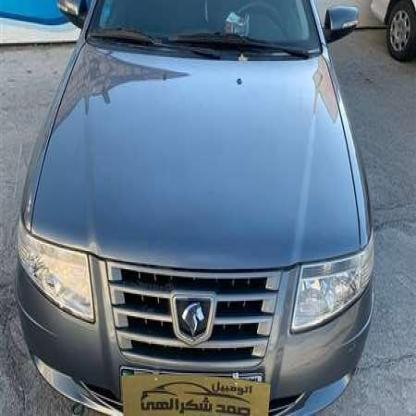Car: (14, 0, 378, 416), (369, 0, 415, 83)
